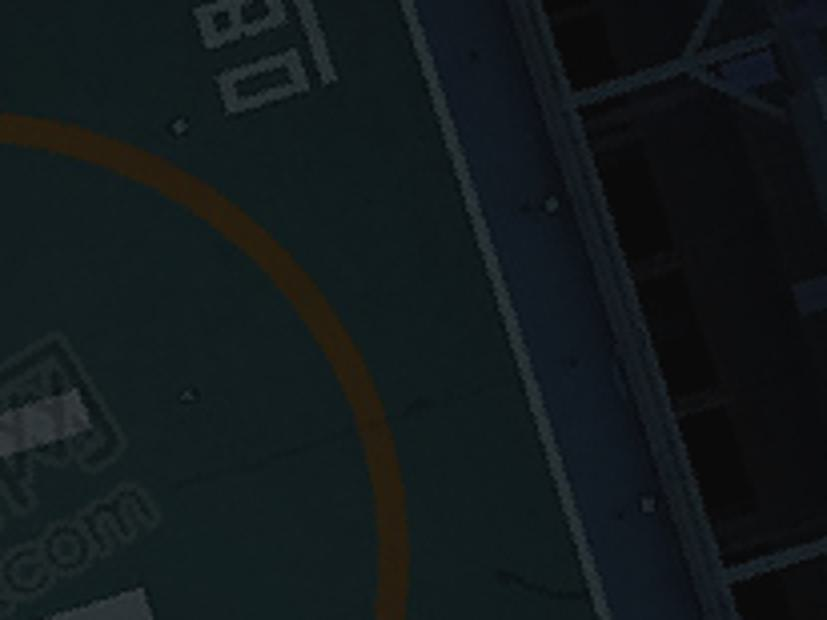Apron: (1, 106, 411, 620)
